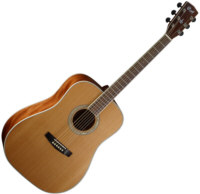guitar: (1, 1, 199, 194)
